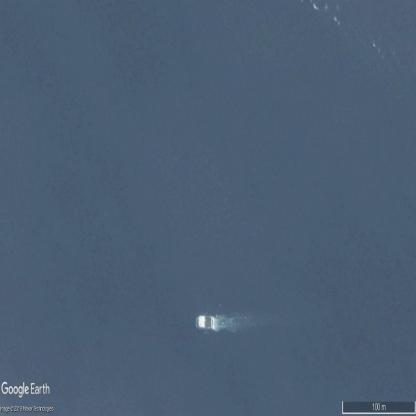ship: (196, 314, 214, 333)
